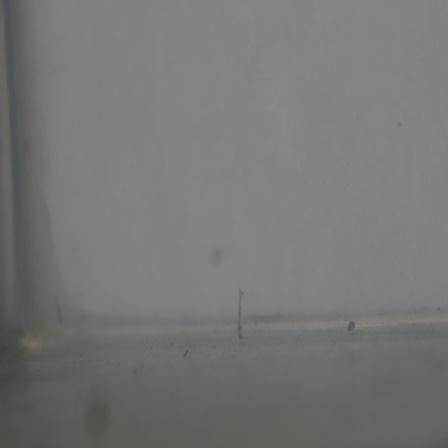Jentik-Nyamuk: (229, 286, 251, 342)
